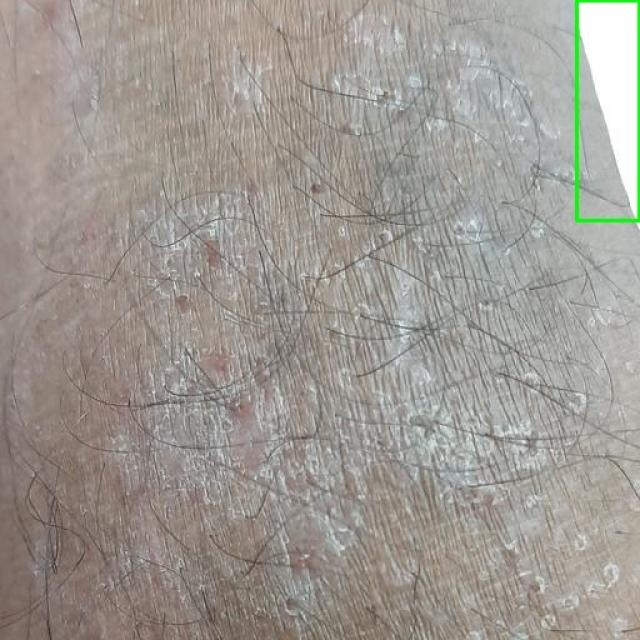Contact Dermatitis: (576, 0, 639, 220)
